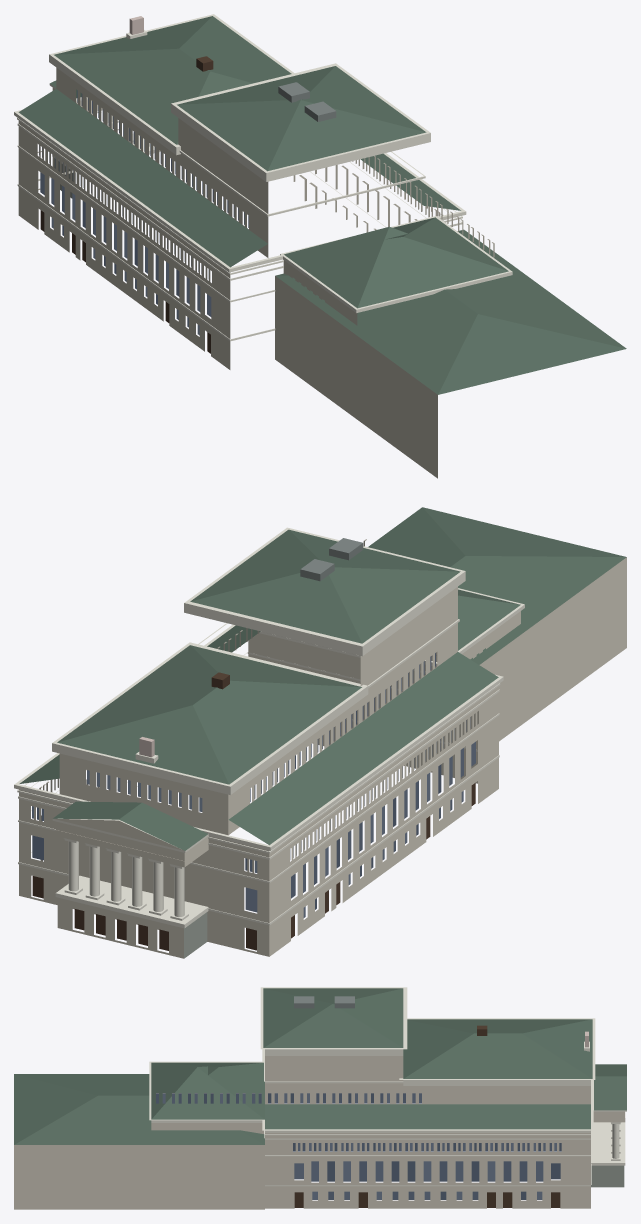
The model's file is opera-b-parametric-lod1.glb.
3 views of the same model, one above another, from view 1: azimuth 30°, elevation 25°; view 2: azimuth 150°, elevation 25°; view 3: azimuth 270°, elevation 25° (orthographic). The views are drawn at different scales.
Visible parts, largest first — view 1: opera-b-parametric-lod1; view 2: opera-b-parametric-lod1; view 3: opera-b-parametric-lod1.
Part boxes in pixels (x1,y1,x2,y2): opera-b-parametric-lod1: (14,14,626,478); opera-b-parametric-lod1: (14,507,626,958); opera-b-parametric-lod1: (14,987,626,1209).
Bounding box in the file's own units: 41.39 × 35.9 × 120.
3 materials, 3 textured.
